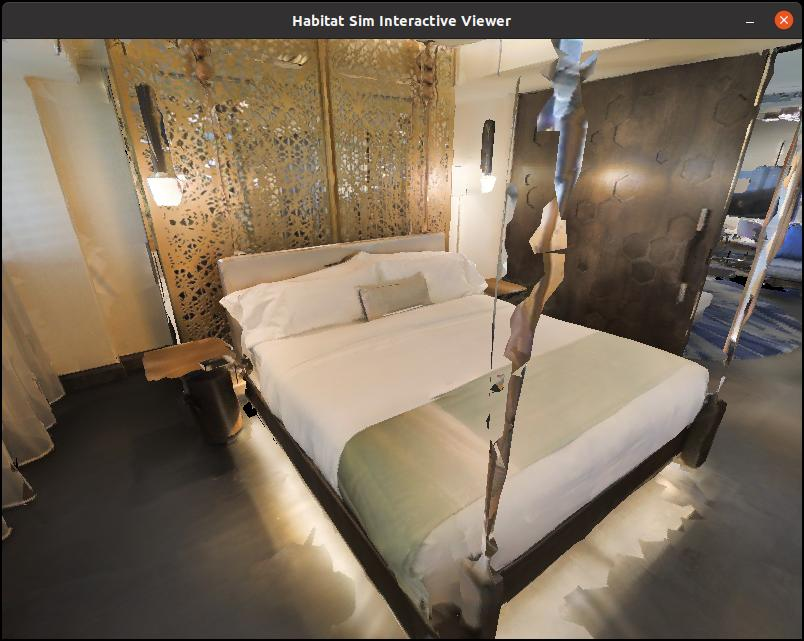bed: (188, 210, 759, 641)
